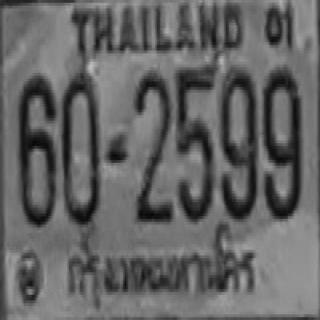N00: (60, 70, 98, 222)
N02: (134, 70, 170, 222)
N05: (174, 65, 213, 219)
N06: (18, 73, 54, 224)
N09: (262, 66, 300, 218), (219, 66, 256, 218)
P04: (61, 240, 265, 317)
